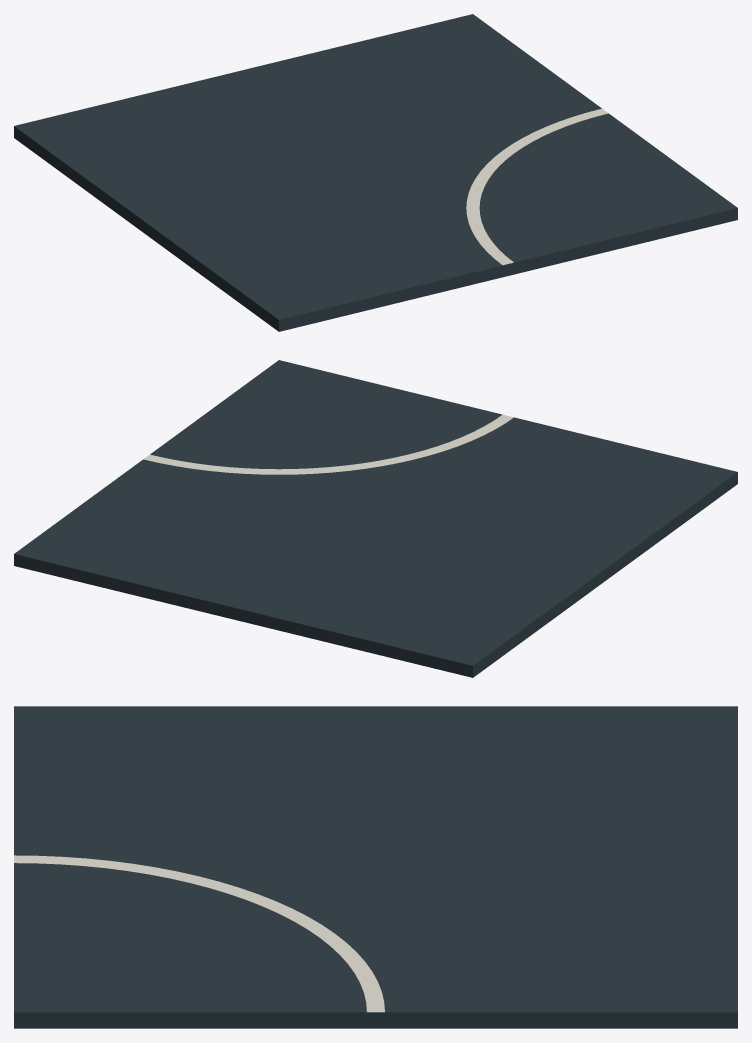
The model's file is res_road_corner.glb.
3 renders of one model, top to bottom at view 1: azimuth 30°, elevation 25°; view 2: azimuth 150°, elevation 25°; view 3: azimuth 270°, elevation 25°, orthographic. The views are drawn at different scales.
Parts seen in each view (by area): view 1: res_road_corner; view 2: res_road_corner; view 3: res_road_corner.
Part boxes in pixels (x1,y1,x2,y2): res_road_corner: (14, 14, 737, 331); res_road_corner: (14, 360, 737, 677); res_road_corner: (14, 706, 737, 1028).
Size of the model in its own units: 4 by 0.1 by 4.
